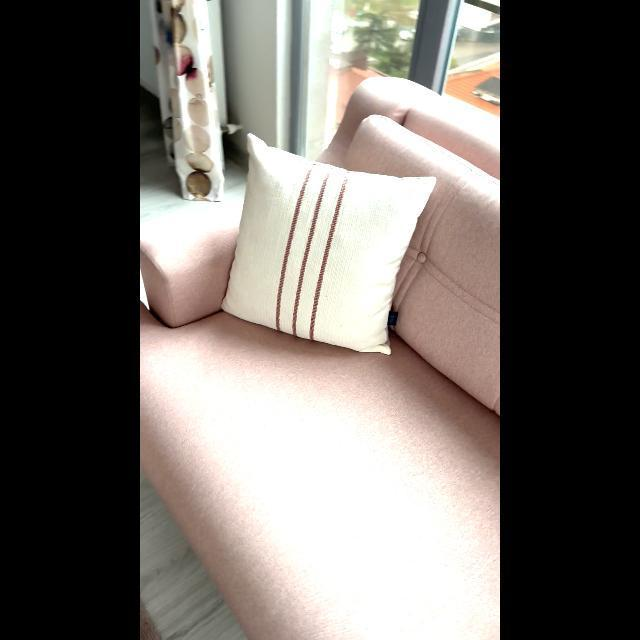throw pillow: (218, 120, 432, 364)
